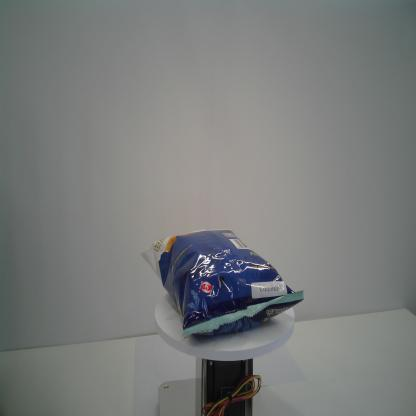Puffed Food: (141, 227, 304, 345)
